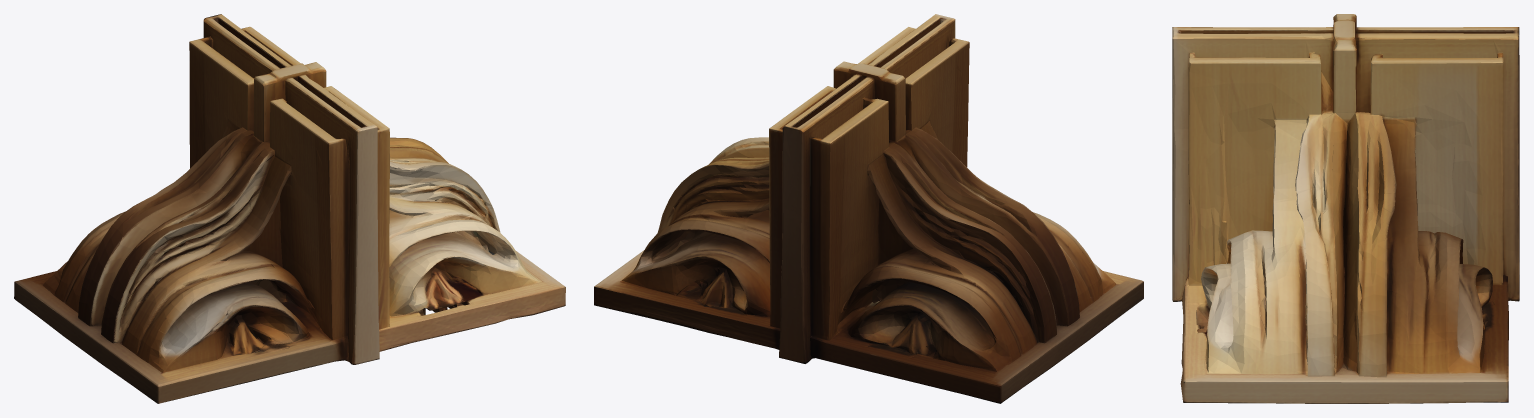
File: wooden-bookends-dune.jpeg.glb
3 renders of one model, left to right at view 1: azimuth 30°, elevation 25°; view 2: azimuth 150°, elevation 25°; view 3: azimuth 270°, elevation 25°, orthographic. The views are drawn at different scales.
Parts seen in each view (by area): view 1: world; view 2: world; view 3: world.
Part boxes in pixels (<box>): world: <box>14,14,565,403</box>; world: <box>594,14,1143,403</box>; world: <box>1172,14,1519,403</box>.
Bounding box in the file's own units: 1 × 0.5657 × 0.6556.
Materials: 1 (1 with a texture image).
